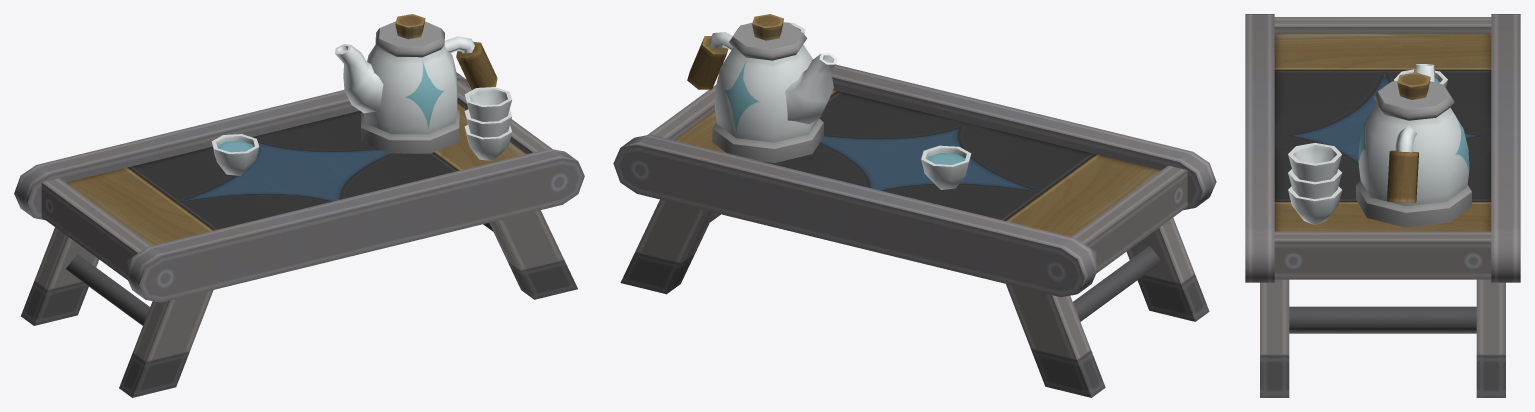
The picture shows the model from 3 angles, left to right: view 1: azimuth 30°, elevation 25°; view 2: azimuth 150°, elevation 25°; view 3: azimuth 270°, elevation 25°; orthographic projection. The views are drawn at different scales.
Parts seen in each view (by area): view 1: 720023_1003_chazhuo_model_0; view 2: 720023_1003_chazhuo_model_0; view 3: 720023_1003_chazhuo_model_0.
Part boxes in pixels (left/top/right/bottom): 720023_1003_chazhuo_model_0: left=14, top=14, right=584, bottom=397; 720023_1003_chazhuo_model_0: left=613, top=14, right=1216, bottom=397; 720023_1003_chazhuo_model_0: left=1245, top=14, right=1520, bottom=397.
Size of the model in its own units: 1.73 by 0.8924 by 0.838.
Materials: 1 (1 with a texture image).
